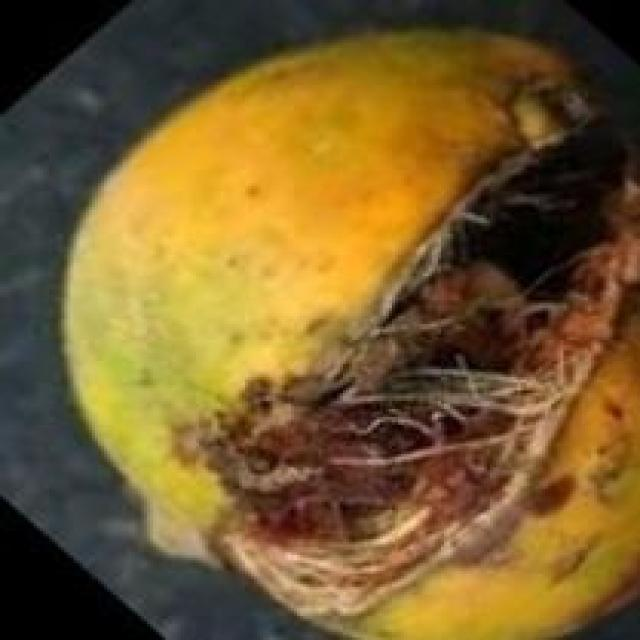damaged: (52, 21, 637, 637)
